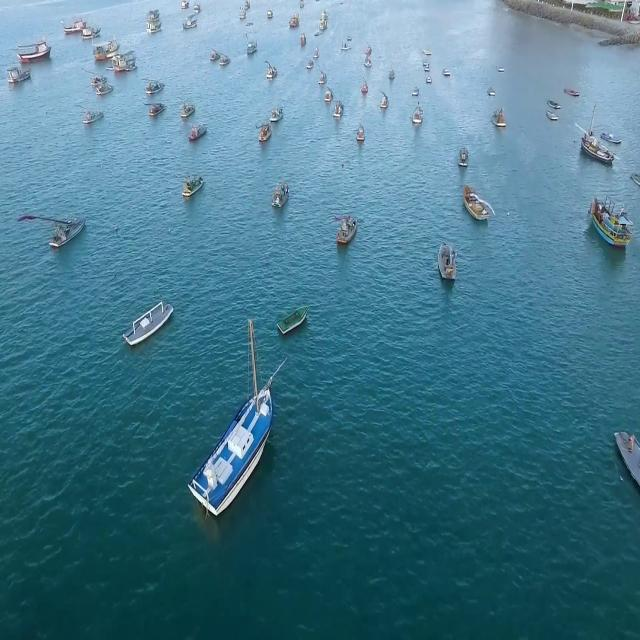ship: (188, 316, 284, 516), (581, 106, 621, 163), (125, 302, 175, 346), (589, 200, 632, 246), (48, 214, 82, 254), (461, 185, 495, 220), (108, 49, 138, 77), (279, 308, 310, 334), (18, 38, 52, 61), (83, 104, 109, 134), (438, 242, 458, 280), (335, 218, 357, 246), (183, 177, 206, 200), (7, 64, 31, 86), (455, 139, 476, 163), (274, 183, 290, 207), (188, 121, 206, 142), (149, 99, 167, 119), (413, 105, 426, 132), (270, 104, 286, 124), (180, 104, 198, 120), (211, 51, 227, 68), (259, 121, 272, 141), (266, 62, 279, 82), (494, 107, 506, 124), (337, 96, 344, 124)
